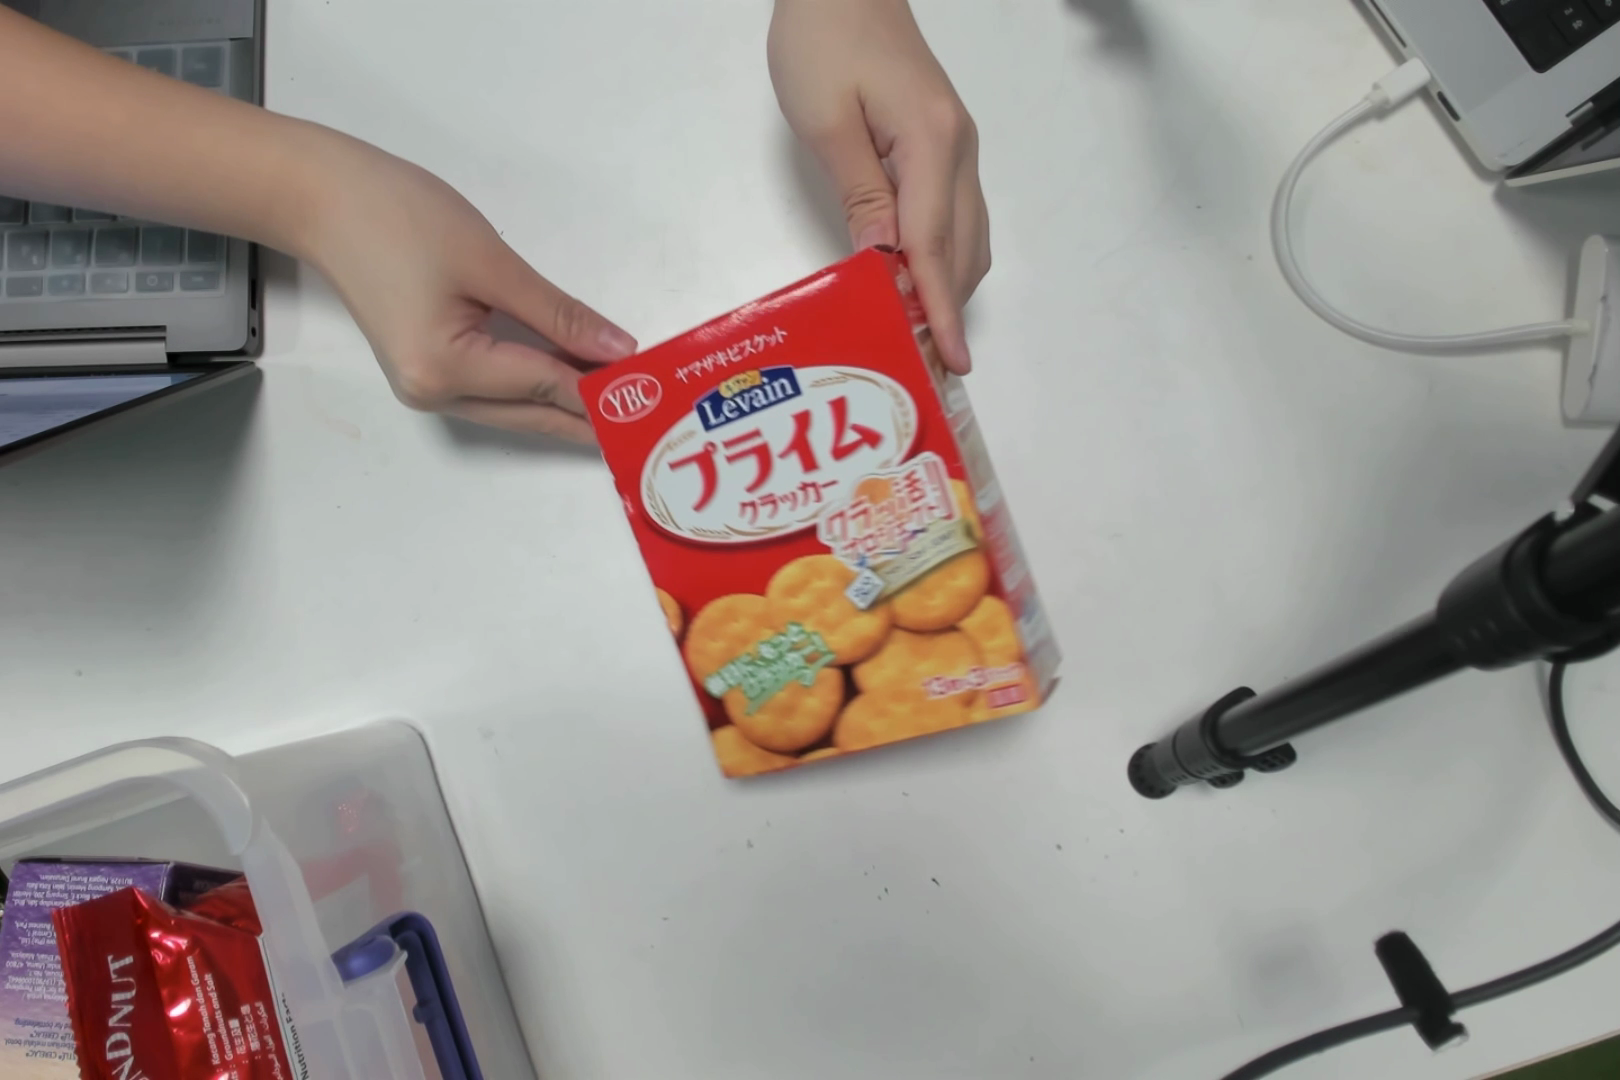d: (599, 347, 1063, 752)
